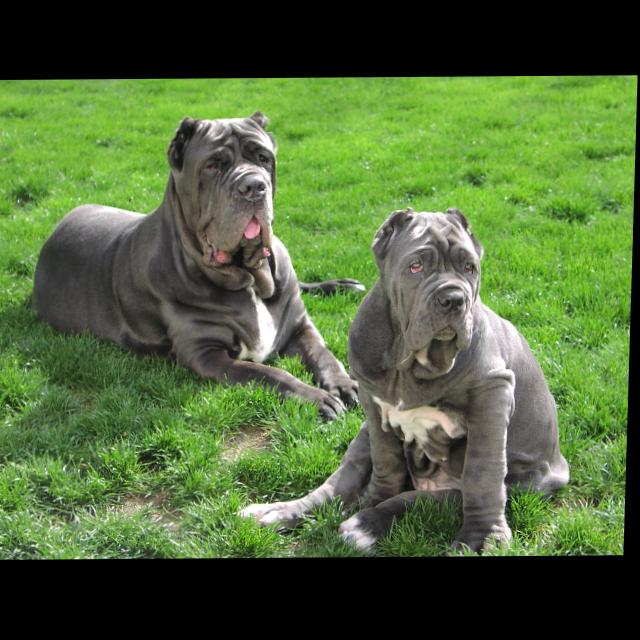mastino_napoletano: (239, 206, 581, 559), (31, 111, 373, 427)
